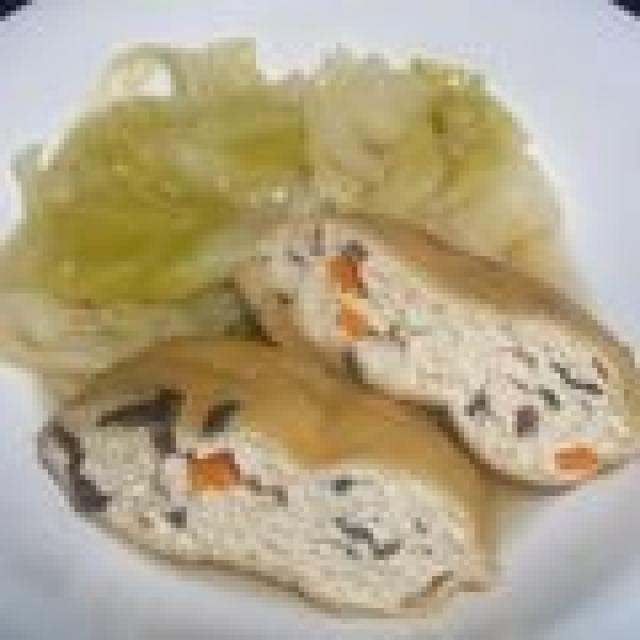熟制海鲜: (0, 160, 640, 640)
